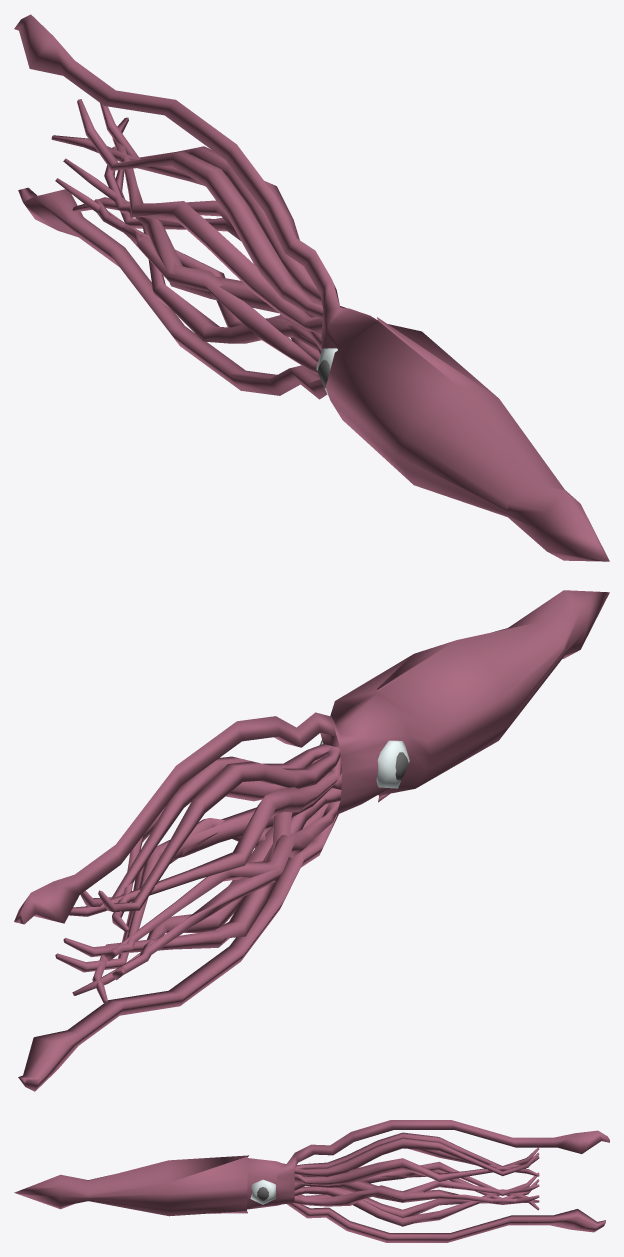
Rendered from Squid.glb.
The picture shows the model from 3 angles, top to bottom: view 1: azimuth 30°, elevation 25°; view 2: azimuth 150°, elevation 25°; view 3: azimuth 270°, elevation 25°; orthographic projection. The views are drawn at different scales.
Parts seen in each view (by area): view 1: Giant_Squid; view 2: Giant_Squid; view 3: Giant_Squid.
Part boxes in pixels (x1,y1,x2,y2): Giant_Squid: [14, 14, 609, 561]; Giant_Squid: [14, 590, 609, 1091]; Giant_Squid: [14, 1120, 609, 1242].
Bounding box in the file's own units: 165 × 292 × 1286.
